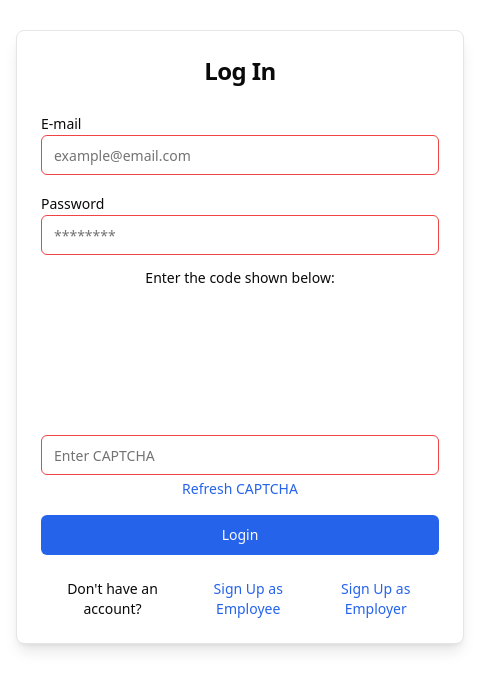
Test case: Login Page › handles user profile not found error
Type "noprofile@example.com" into the field labelled "E-mail". click: (240,155)
box: [41,135,439,175]
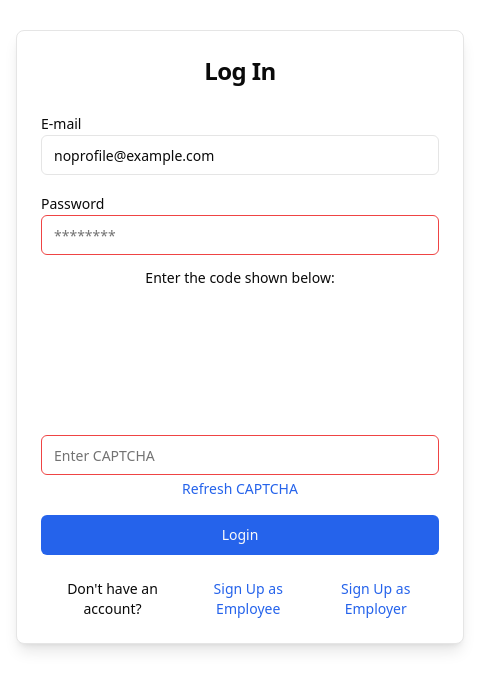
Type "password123" into the password field labelled "Password". click: (240,235)
box: [41,215,439,255]
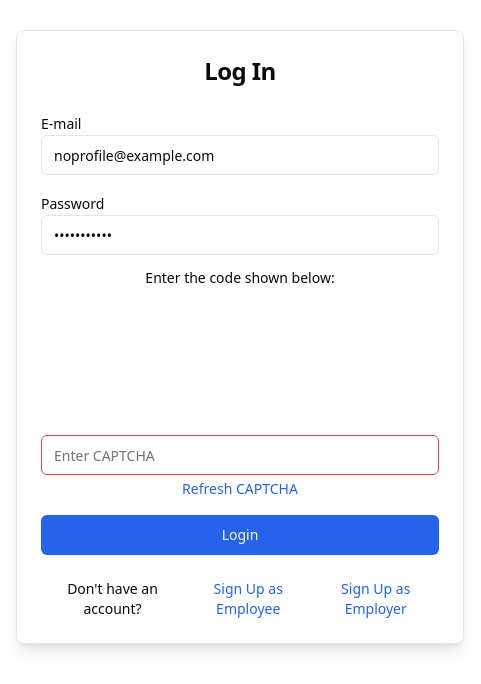
Type "captcha123" into the field with placeholder "Enter CAPTCHA". click: (240,455)
box: [41,435,439,475]
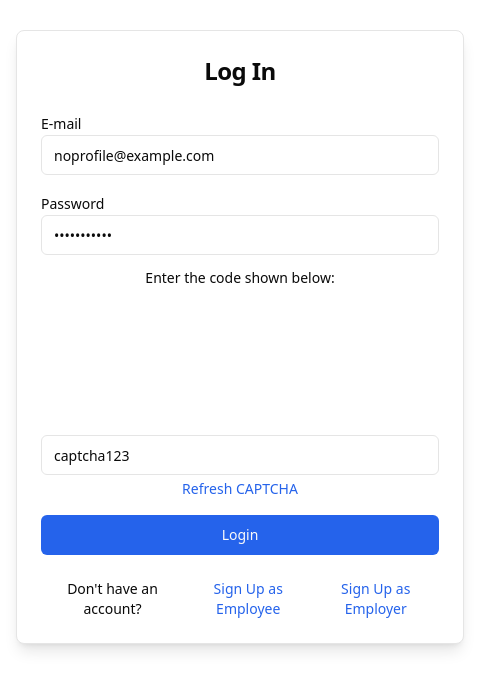
Submit the form from the button "Login", box [41,515,439,555]
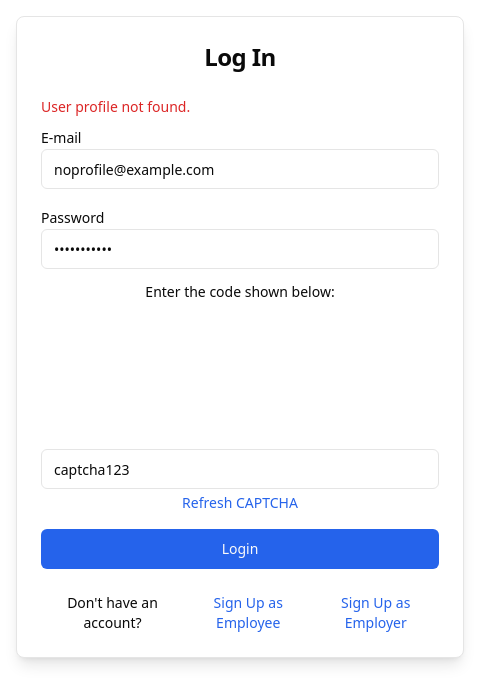
Check: the text "User profile not found." is shown, box [41,97,190,116]
